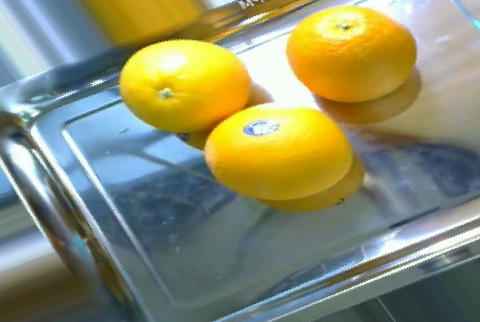Orange: (202, 100, 353, 202), (117, 39, 252, 133), (285, 6, 417, 102)
